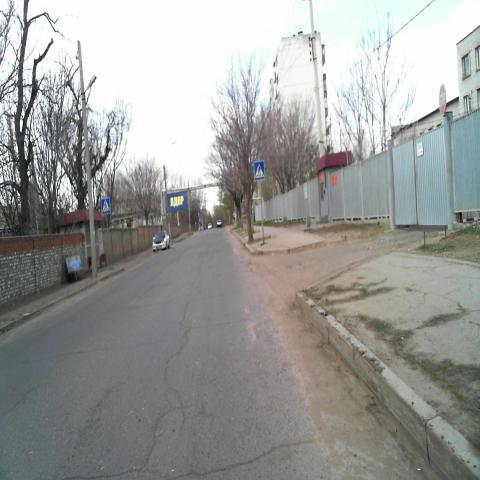5_19_1: (253, 160, 264, 180), (101, 197, 111, 215)
